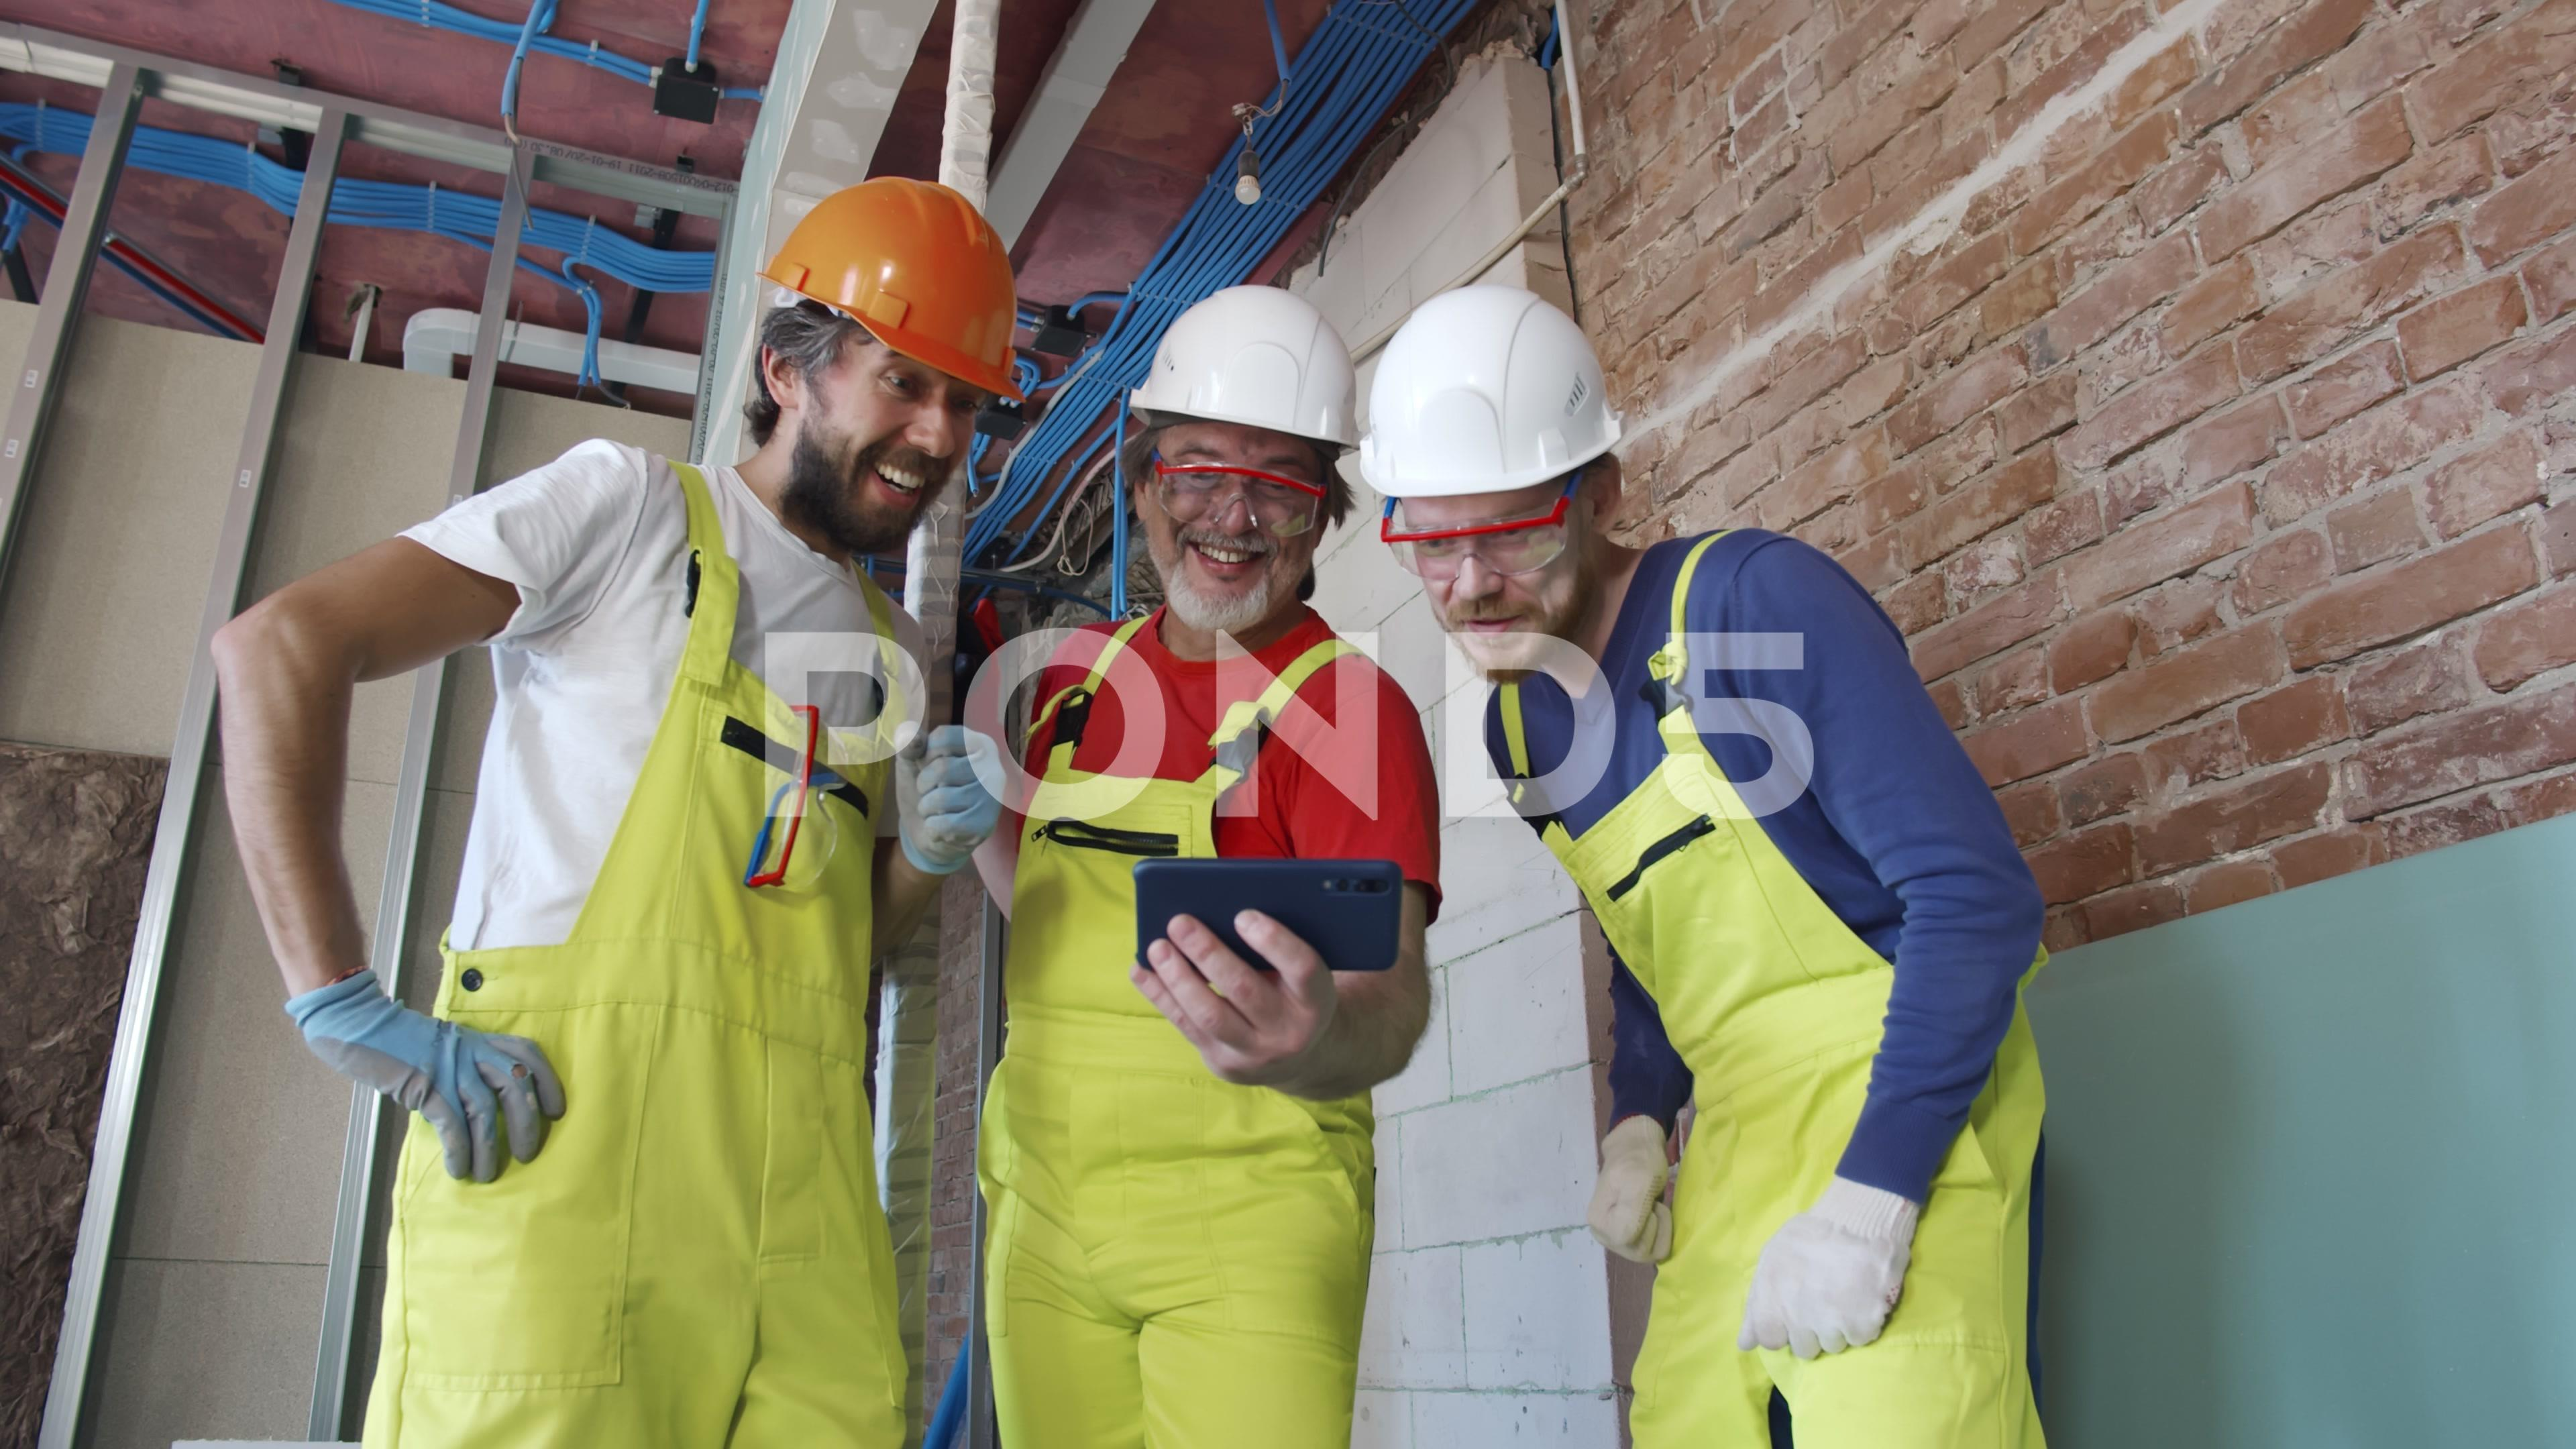hat: (1289, 222, 1745, 517), (749, 158, 1118, 447), (1104, 259, 1396, 477)
no vest: (1419, 557, 2141, 1449), (386, 390, 957, 1446), (943, 568, 1430, 1440)
